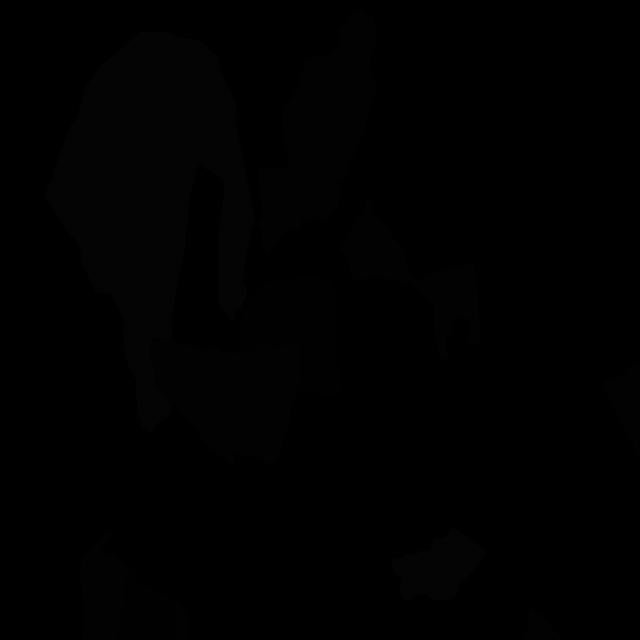cardboard: (340, 200, 482, 360), (283, 10, 377, 221), (150, 338, 301, 465), (79, 530, 129, 640), (254, 166, 304, 255), (603, 361, 640, 459), (522, 607, 563, 640), (173, 600, 192, 640)
rigid_plastic: (239, 276, 343, 398), (118, 566, 175, 640)
soft_plastic: (45, 31, 254, 432), (392, 527, 487, 602)
